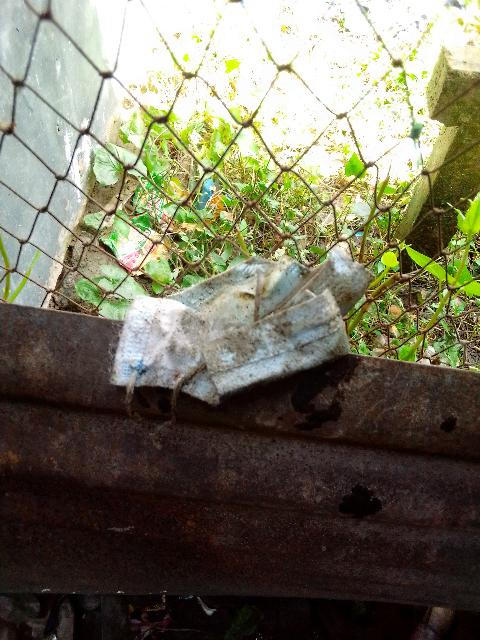mask: (111, 224, 354, 390)
